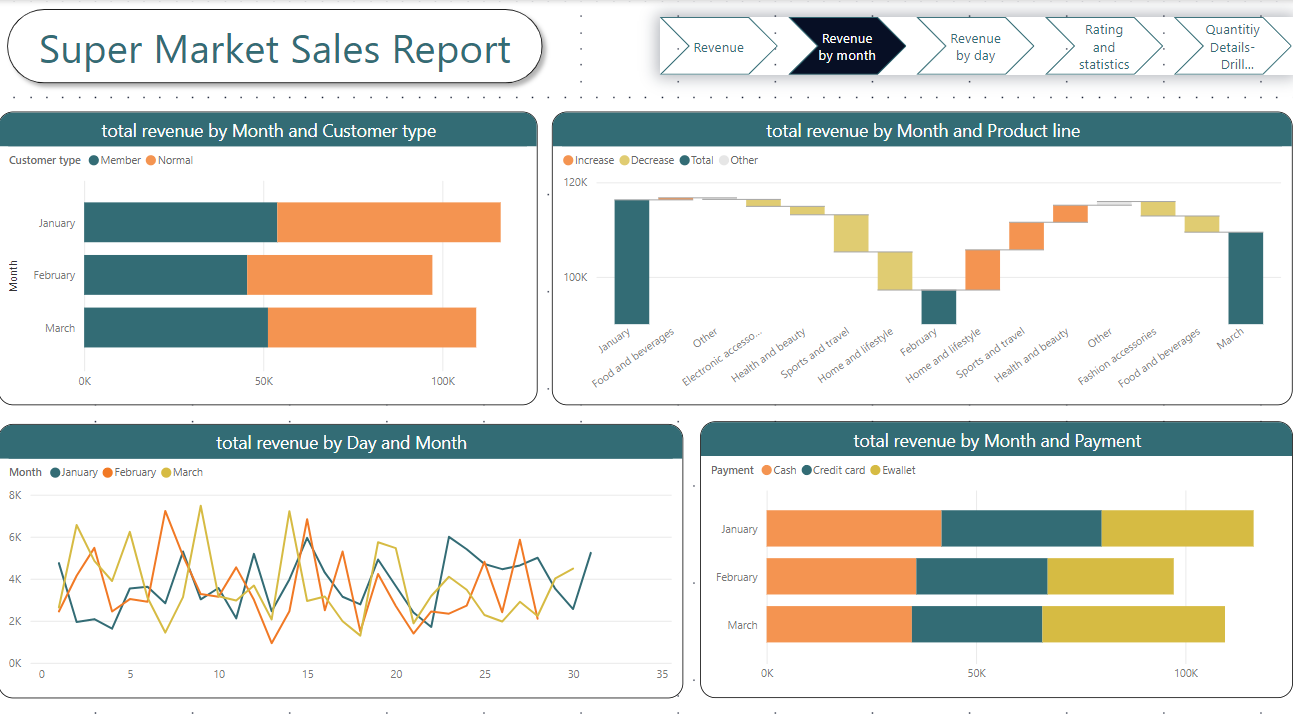

The dashboard page shown, as its layout file describes it:
{"tool":"powerbi","page":{"name":"Revenue by month","canvas":[1280,720],"ordinal":1},"visuals":[{"type":"barChart","fields":{"Category":["DimDate.Date.Variation.Date Hierarchy.Month"],"Y":["DimDate.total revenue"],"Series":["SuperMarket Sales Final.Customer type"]},"box":[0,110.7,533.3,290.5],"z":0},{"type":"barChart","fields":{"Category":["DimDate.Date.Variation.Date Hierarchy.Month"],"Y":["DimDate.total revenue"],"Series":["SuperMarket Sales Final.Payment"]},"box":[694.1,416.7,585.7,273.8],"z":1000},{"type":"lineChart","fields":{"Category":["DimDate.Date.Variation.Date Hierarchy.Day"],"Y":["DimDate.total revenue"],"Series":["SuperMarket Sales Final.Month"]},"box":[0,419,677.4,271.4],"z":2000},{"type":"waterfallChart","fields":{"Category":["SuperMarket Sales Final.Month"],"Y":["DimDate.total revenue"],"Breakdown":["SuperMarket Sales Final.Product line"]},"box":[547.6,110.7,732.1,290.5],"z":3000},{"type":"shape","box":[0,0,547.3,91.4],"z":4000},{"type":"pageNavigator","box":[653.6,16.7,626.2,57.1],"z":5000}]}

Visuals, with their boxes in screenshot pixels (x1, y1, x2, y2), scaled from the page's 1280x720 canvas onto the 1293x723 screenshot:
barChart - DimDate.Date.Variation.Date Hierarchy.Month x DimDate.total revenue: 0:111:539:403
barChart - DimDate.Date.Variation.Date Hierarchy.Month x DimDate.total revenue: 701:418:1292:693
lineChart - DimDate.Date.Variation.Date Hierarchy.Day x DimDate.total revenue: 0:421:684:693
waterfallChart - SuperMarket Sales Final.Month x DimDate.total revenue: 553:111:1292:403
shape: 0:0:553:92
pageNavigator: 660:17:1292:74
